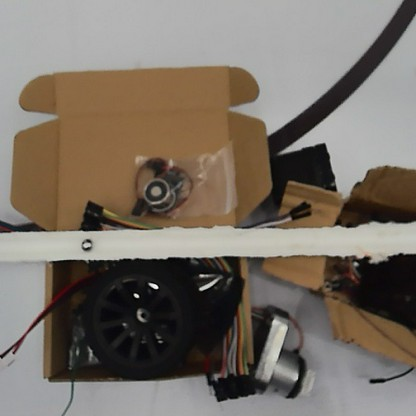ironball: (78, 234, 94, 254)
